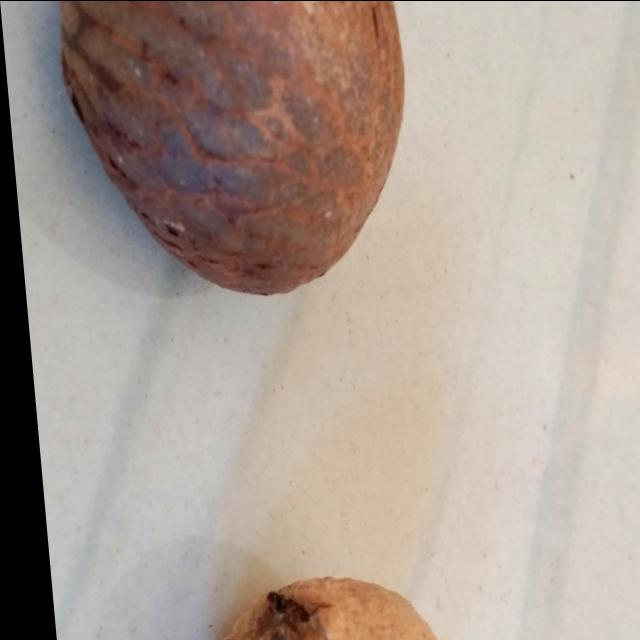karigot: (55, 0, 428, 291), (164, 558, 449, 640)
